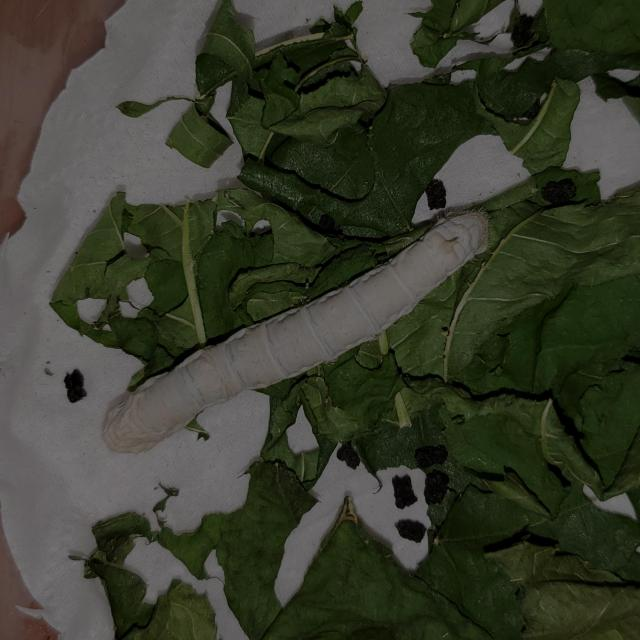Healthy: (96, 202, 498, 457)
